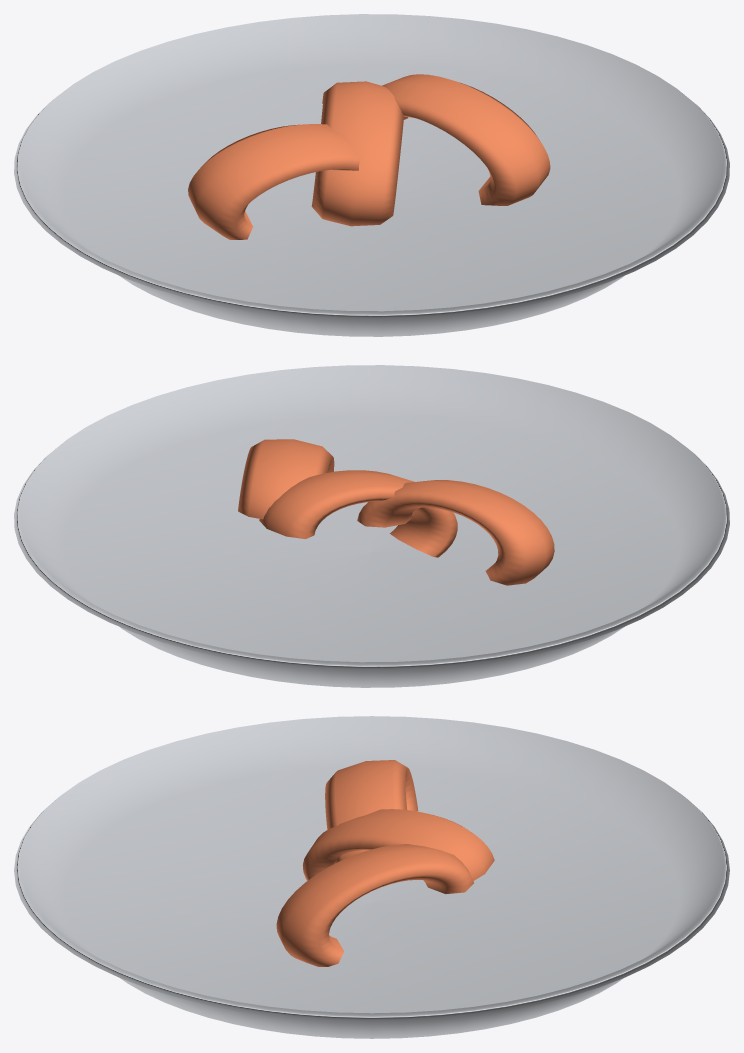
Rendered from mezzogiorno-salmone-affumicato.glb.
3 renders of one model, top to bottom at view 1: azimuth 30°, elevation 25°; view 2: azimuth 150°, elevation 25°; view 3: azimuth 270°, elevation 25°, orthographic.
Bounding box in the file's own units: 0.22 × 0.0332 × 0.22.
